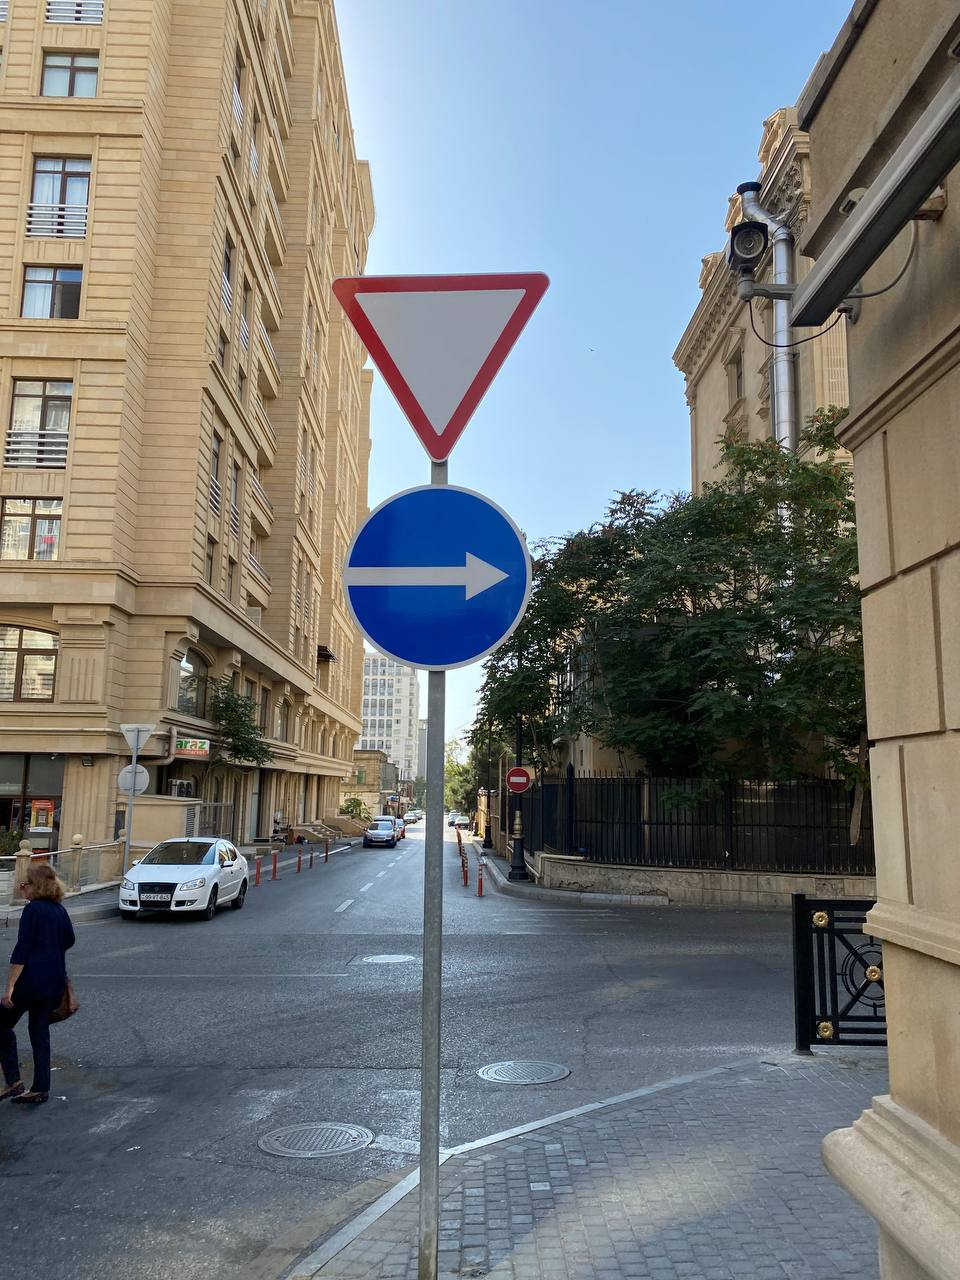Give Way: (333, 273, 551, 463)
Turn Right: (343, 483, 532, 672)
